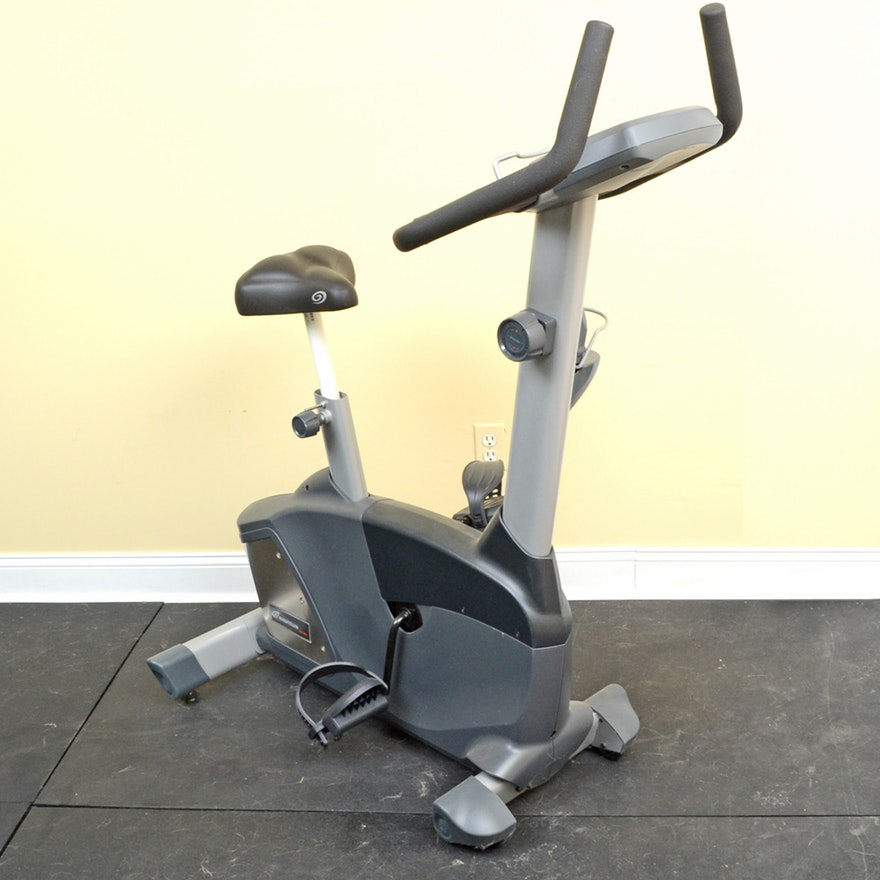gym_bike: (153, 11, 736, 851)
